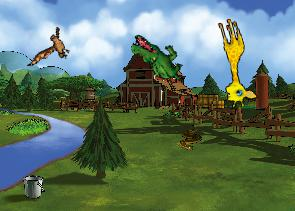crocodile: (124, 33, 191, 84)
eagle: (27, 21, 76, 77)
giraffe: (206, 16, 259, 110)
